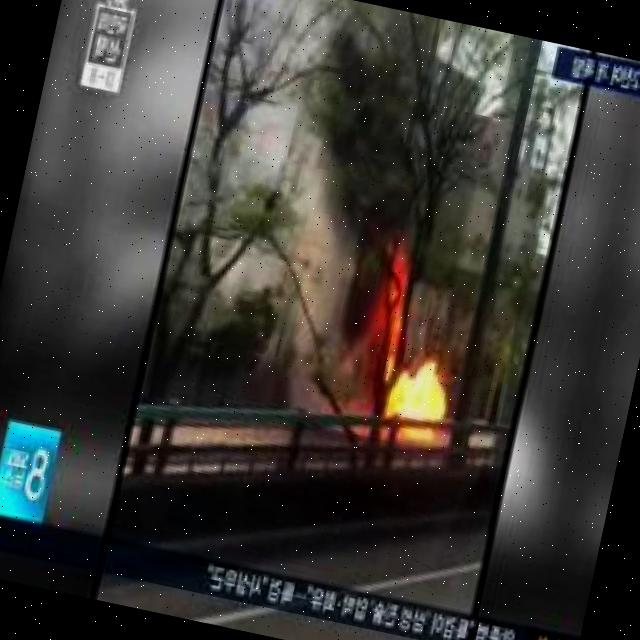fire: (357, 337, 458, 443), (358, 221, 430, 351)
